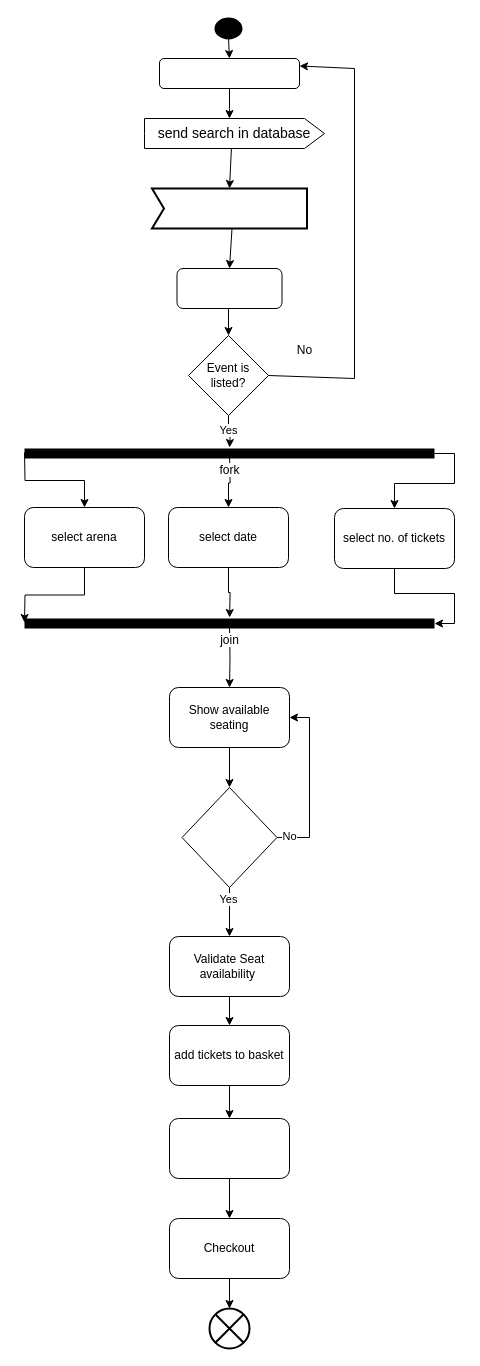
Image size: 480x1366. Some labels were removed from this diagram. Each missing label, with the box of its shape:
Lock selected seats: (168, 1118, 290, 1178)
receive search validation: (150, 187, 308, 229)
search validated: (176, 268, 282, 308)
User search for events: (158, 58, 300, 88)
User selects seat?: (181, 786, 277, 888)
